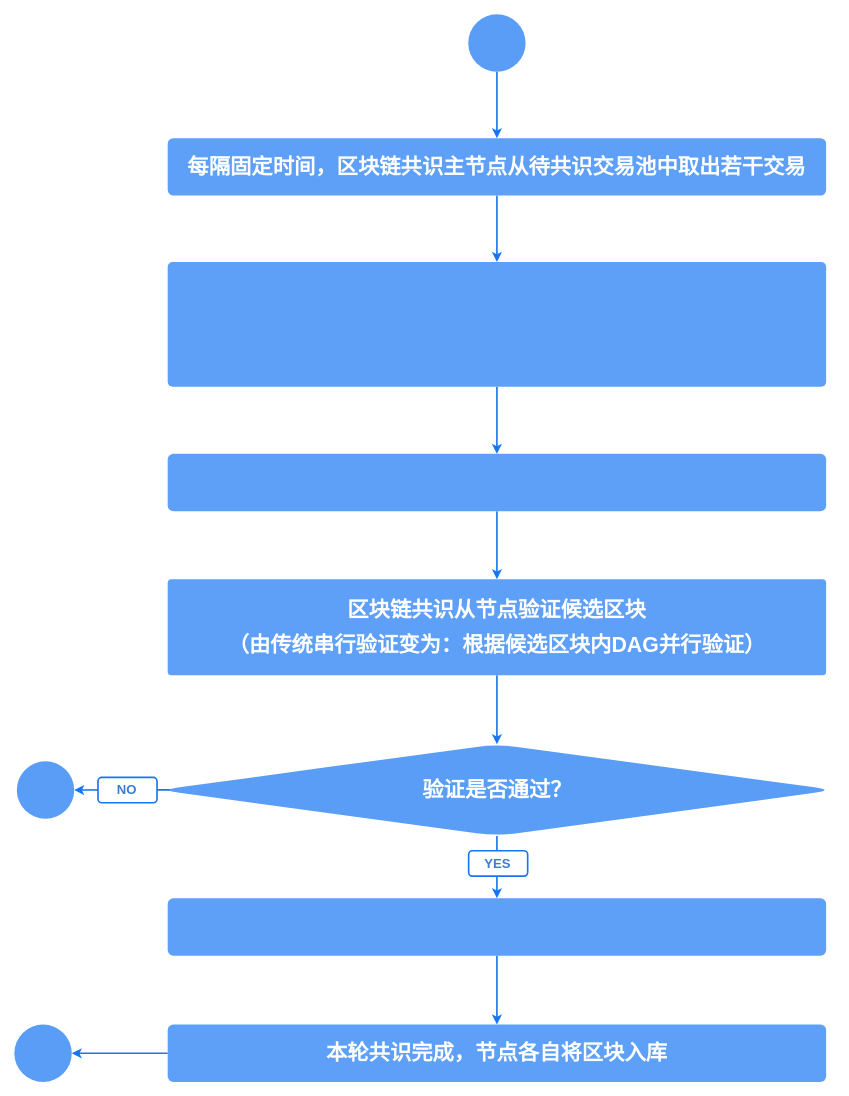
The diagram is 849 pixels wide and 1096 high, and some of its shapes have lost their labels. The shapes that lost their labels are listed below. From the top down, each one's centre as x and y in pixels, then its label:
At point 496,324: "区块链共识主节点预执行每笔交易，形成候选区块 （由传统串行执行变为：采用并行调度算法生成交易执行DAG，并 将DAG加入候选区块）".
At point 496,482: "区块链共识主节点将候选区块发送给共识从节点进行共识".
At point 496,926: "若共识算法包含后续流程（例如PBFT的多轮投票），进行后续流程".
